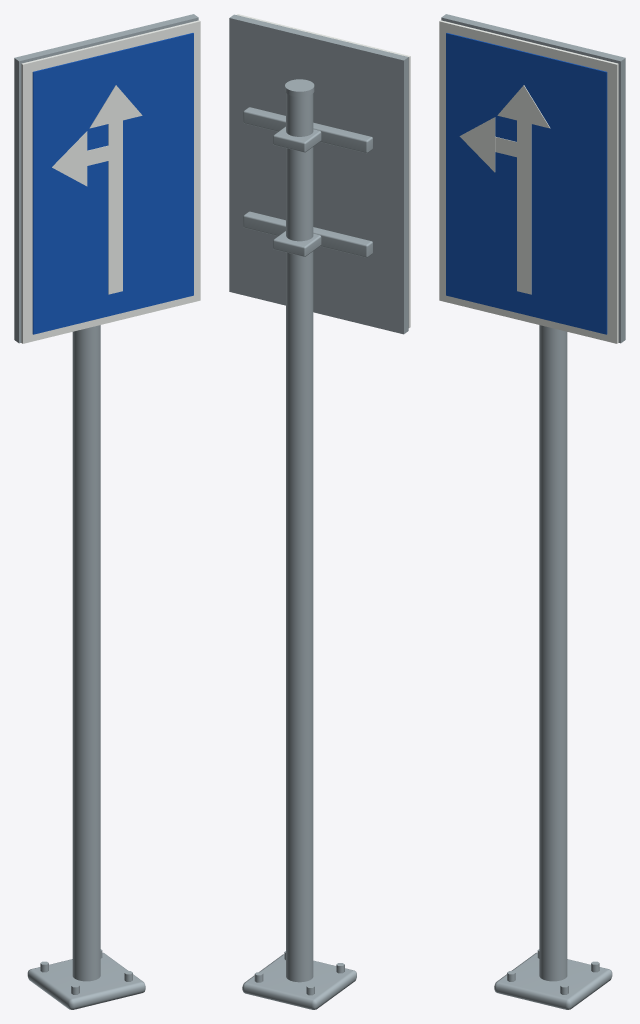
The model's file is DS_Sign_LaneDir1_LS.glb.
3 views of the same model, side by side, from view 1: azimuth 30°, elevation 25°; view 2: azimuth 150°, elevation 25°; view 3: azimuth 330°, elevation 25° (orthographic). The views are drawn at different scales.
Parts seen in each view (by area): view 1: Face_Field.022, Post.029, Face_Border.022, Plate_Back.037, BasePlate.029, LaneStem0.004, ArrowHead.008, ArrowHead.007, LaneStraight0.002, LaneLeft1.003; view 2: Plate_Back.037, Post.029, BasePlate.029, RearRail.062, RearRail.061, Face_Border.022, PostClamp.058, PostClamp.057, PostCap.029; view 3: Face_Field.022, Post.029, Face_Border.022, Plate_Back.037, BasePlate.029, LaneStem0.004, ArrowHead.008, ArrowHead.007, LaneStraight0.002, LaneLeft1.003.
Part boxes in pixels (x1,y1,x2,y2): Face_Field.022: [32, 33, 193, 334]; Post.029: [72, 325, 100, 981]; Face_Border.022: [21, 20, 200, 343]; Plate_Back.037: [14, 14, 198, 343]; BasePlate.029: [27, 952, 145, 1009]; LaneStem0.004: [108, 176, 122, 294]; ArrowHead.008: [52, 131, 87, 186]; ArrowHead.007: [89, 85, 142, 128]; LaneStraight0.002: [108, 120, 122, 179]; LaneLeft1.003: [87, 144, 115, 165]; Plate_Back.037: [229, 14, 408, 334]; Post.029: [286, 93, 313, 982]; BasePlate.029: [242, 954, 356, 1009]; RearRail.062: [243, 107, 372, 153]; RearRail.061: [243, 211, 372, 257]; Face_Border.022: [237, 14, 410, 327]; PostClamp.058: [273, 126, 321, 152]; PostClamp.057: [273, 231, 321, 256]; PostCap.029: [285, 79, 314, 96]; Face_Field.022: [446, 33, 607, 334]; Post.029: [539, 325, 567, 981]; Face_Border.022: [439, 20, 618, 343]; Plate_Back.037: [441, 14, 625, 343]; BasePlate.029: [494, 952, 612, 1009]; LaneStem0.004: [517, 176, 531, 294]; ArrowHead.008: [459, 117, 495, 172]; ArrowHead.007: [497, 85, 550, 128]; LaneStraight0.002: [517, 120, 531, 179]; LaneLeft1.003: [495, 136, 524, 158].
Size of the model in its own units: 0.56 by 2.87 by 0.28.
